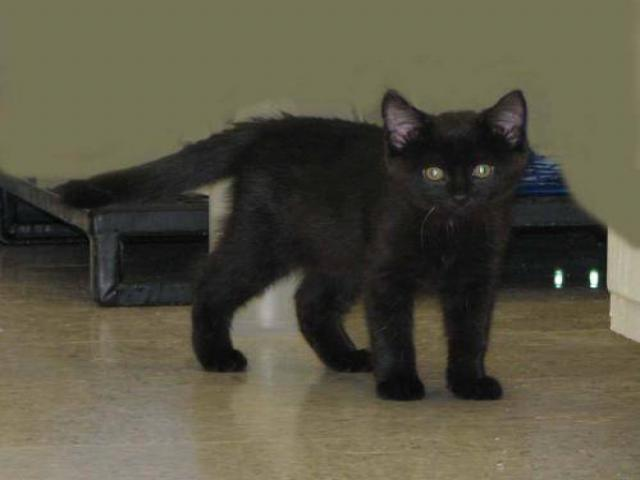cat: (158, 92, 535, 399)
